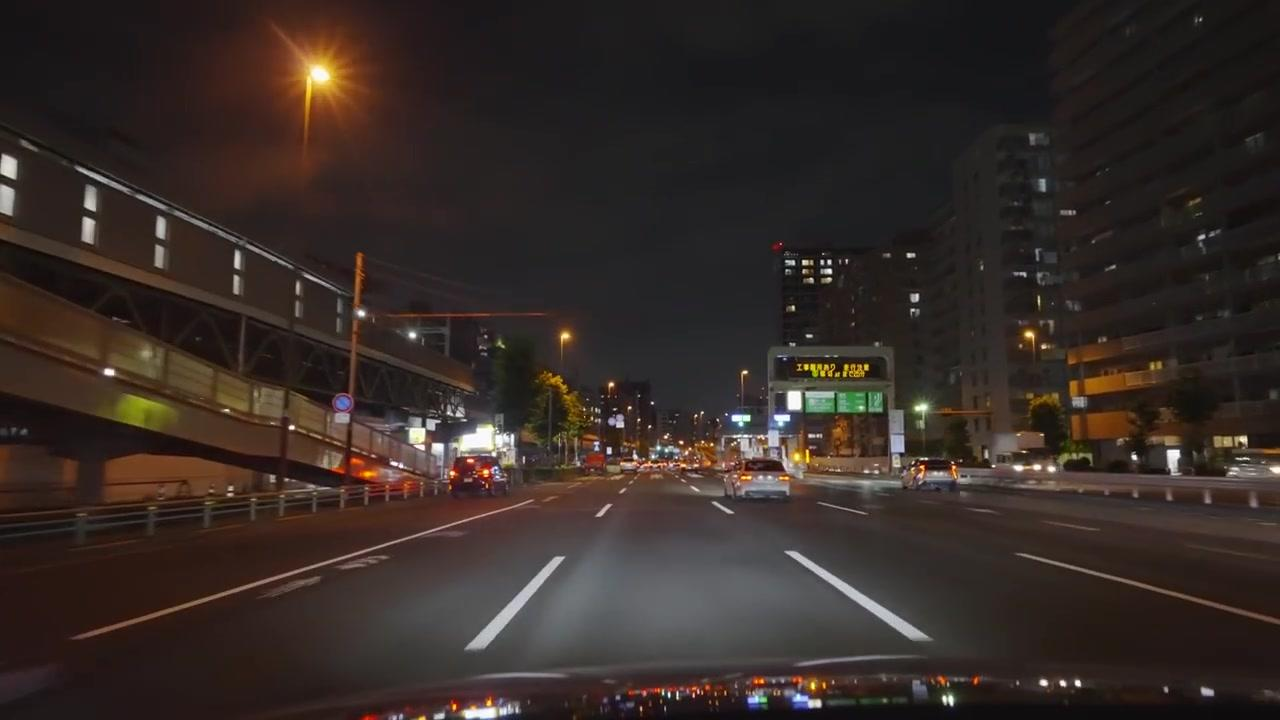car: (726, 458, 792, 501), (449, 455, 509, 497), (911, 458, 959, 491), (1224, 460, 1278, 479), (620, 460, 643, 472)
traffic light: (353, 251, 367, 307)
